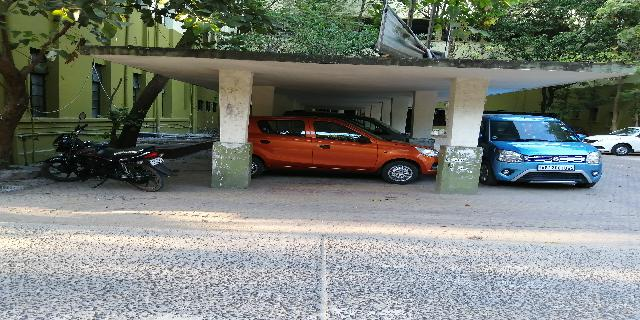Car: (247, 115, 439, 187), (478, 109, 602, 186), (585, 124, 640, 159)
Motorbike: (41, 127, 175, 195)
